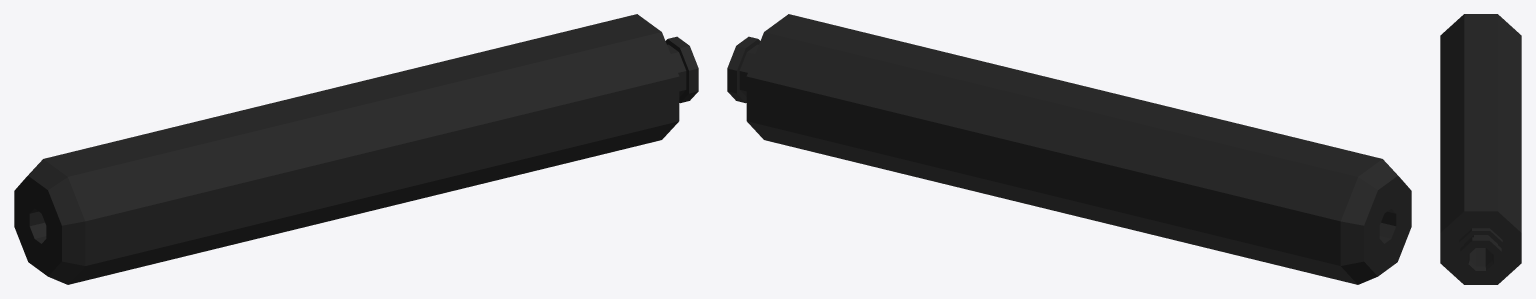
The model's file is ZC57_Attachment_SuppressorV1.glb.
3 renders of one model, left to right at view 1: azimuth 30°, elevation 25°; view 2: azimuth 150°, elevation 25°; view 3: azimuth 270°, elevation 25°, orthographic. The views are drawn at different scales.
Parts seen in each view (by area): view 1: ZC57_Attachment_SuppressorV1; view 2: ZC57_Attachment_SuppressorV1; view 3: ZC57_Attachment_SuppressorV1.
Boxes of the visible parts, left/top/right/bottom form: ZC57_Attachment_SuppressorV1: left=14, top=14, right=698, bottom=284; ZC57_Attachment_SuppressorV1: left=727, top=14, right=1411, bottom=284; ZC57_Attachment_SuppressorV1: left=1440, top=14, right=1521, bottom=284.
Bounding box in the file's own units: 0.1849 × 0.0296 × 0.0296.
1 material, 1 textured.
